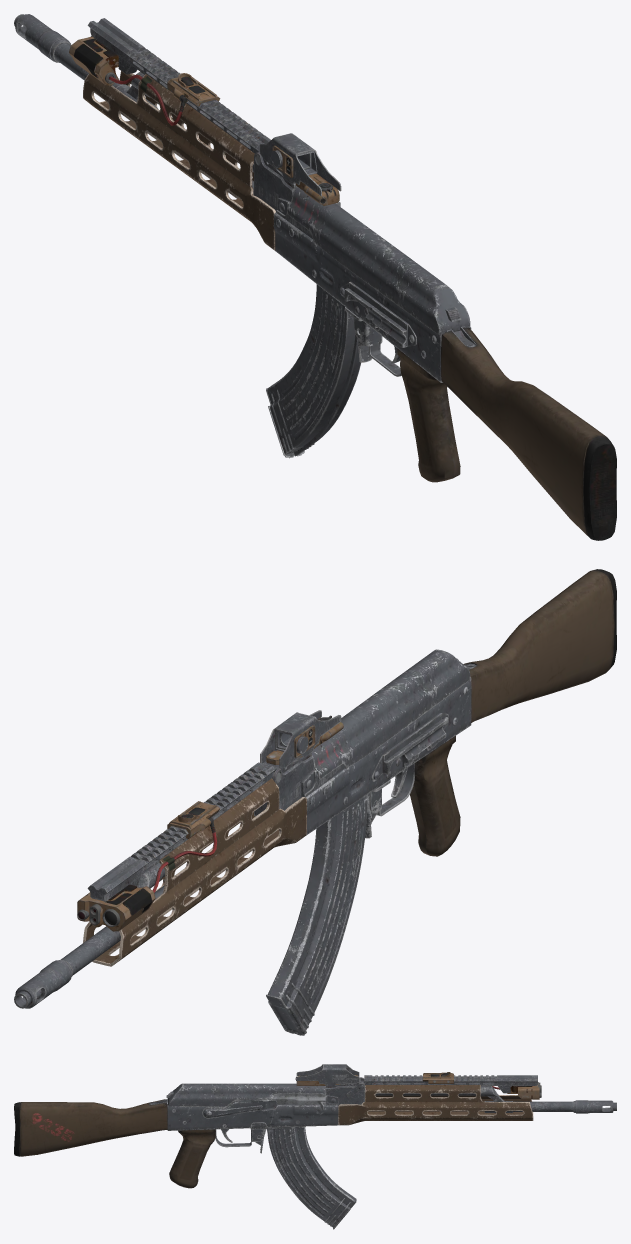
File: gun.glb
3 views of the same model, one above another, from view 1: azimuth 30°, elevation 25°; view 2: azimuth 150°, elevation 25°; view 3: azimuth 270°, elevation 25° (orthographic). The views are drawn at different scales.
Parts seen in each view (by area): view 1: ProphetAKM_AKM_Rear_0, ProphetAKM_AKM_Front_0; view 2: ProphetAKM_AKM_Rear_0, ProphetAKM_AKM_Front_0; view 3: ProphetAKM_AKM_Rear_0, ProphetAKM_AKM_Front_0.
Boxes of the visible parts, left/top/right/bottom form: ProphetAKM_AKM_Rear_0: left=266, top=187, right=616, bottom=540; ProphetAKM_AKM_Front_0: left=14, top=14, right=341, bottom=250; ProphetAKM_AKM_Rear_0: left=266, top=569, right=616, bottom=1035; ProphetAKM_AKM_Front_0: left=14, top=710, right=343, bottom=1008; ProphetAKM_AKM_Rear_0: left=14, top=1083, right=356, bottom=1229; ProphetAKM_AKM_Front_0: left=295, top=1064, right=616, bottom=1125.
Size of what is drawn, in the model's own units: 0.0586 by 0.2717 by 0.9198.
2 materials, 2 textured.
